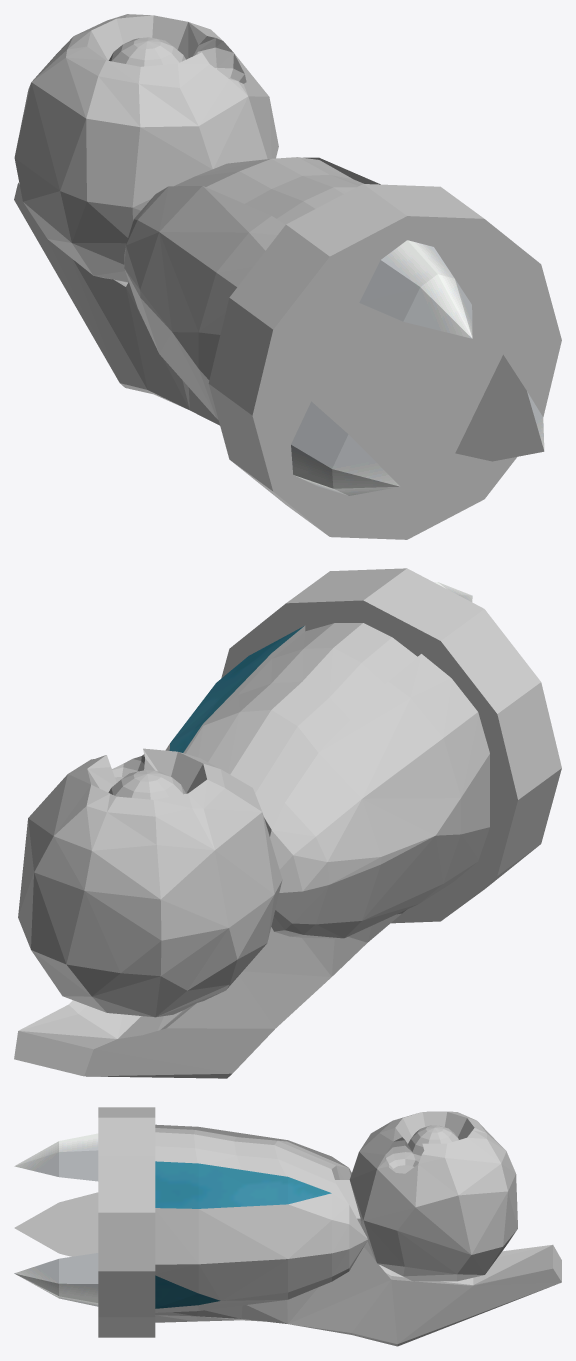
File: BR_Beldum.obj
3 renders of one model, top to bottom at view 1: azimuth 30°, elevation 25°; view 2: azimuth 150°, elevation 25°; view 3: azimuth 270°, elevation 25°, orthographic. The views are drawn at different scales.
Parts seen in each view (by area): view 1: dumbber; view 2: dumbber; view 3: dumbber.
Part boxes in pixels (x1,y1,x2,y2): dumbber: (14, 14, 561, 539); dumbber: (14, 568, 561, 1078); dumbber: (14, 1107, 561, 1346).
Size of the model in its own units: 2.52 by 2.55 by 5.97.
